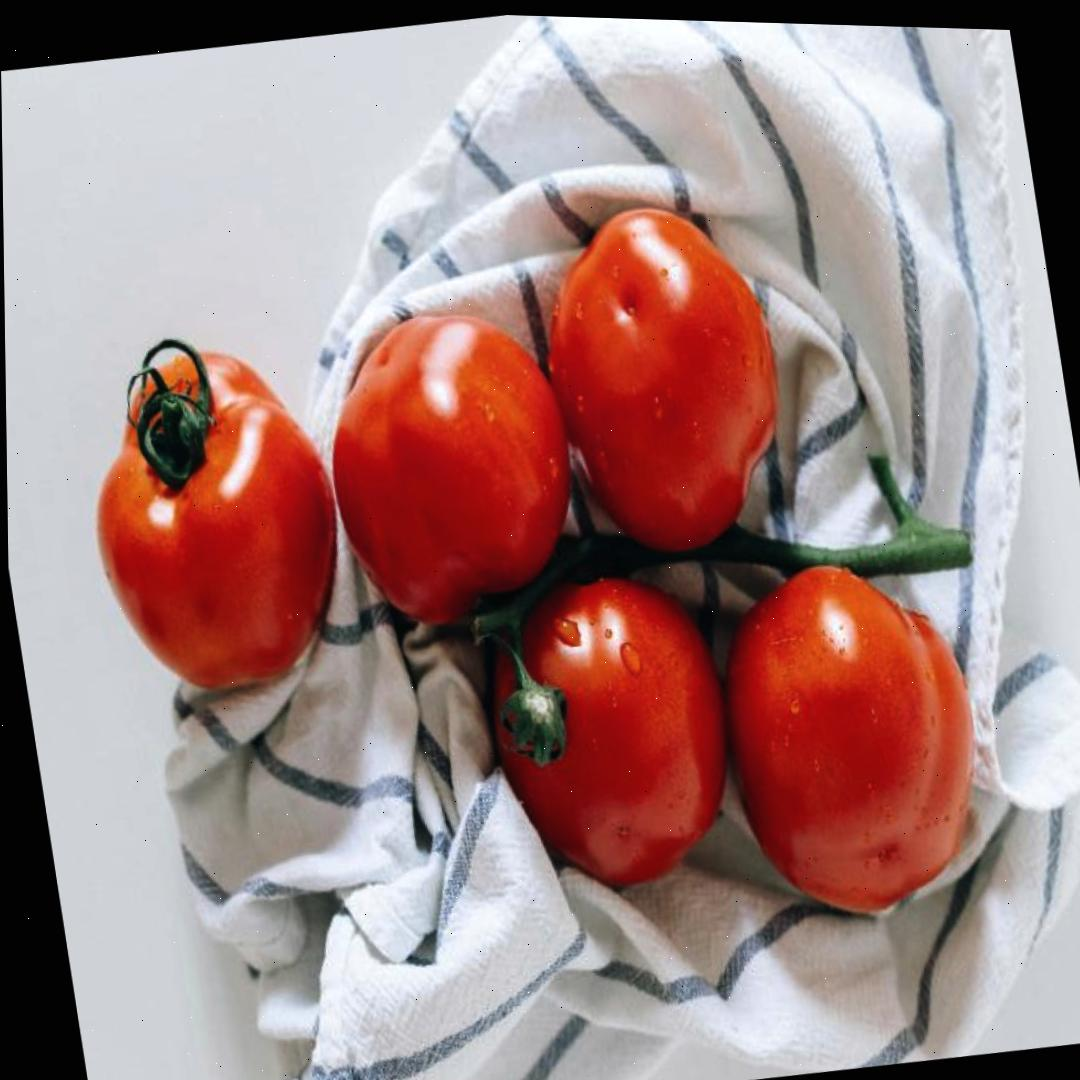matang: (69, 315, 367, 716), (704, 544, 1001, 930), (520, 181, 805, 576), (304, 289, 593, 649), (471, 555, 746, 903)
